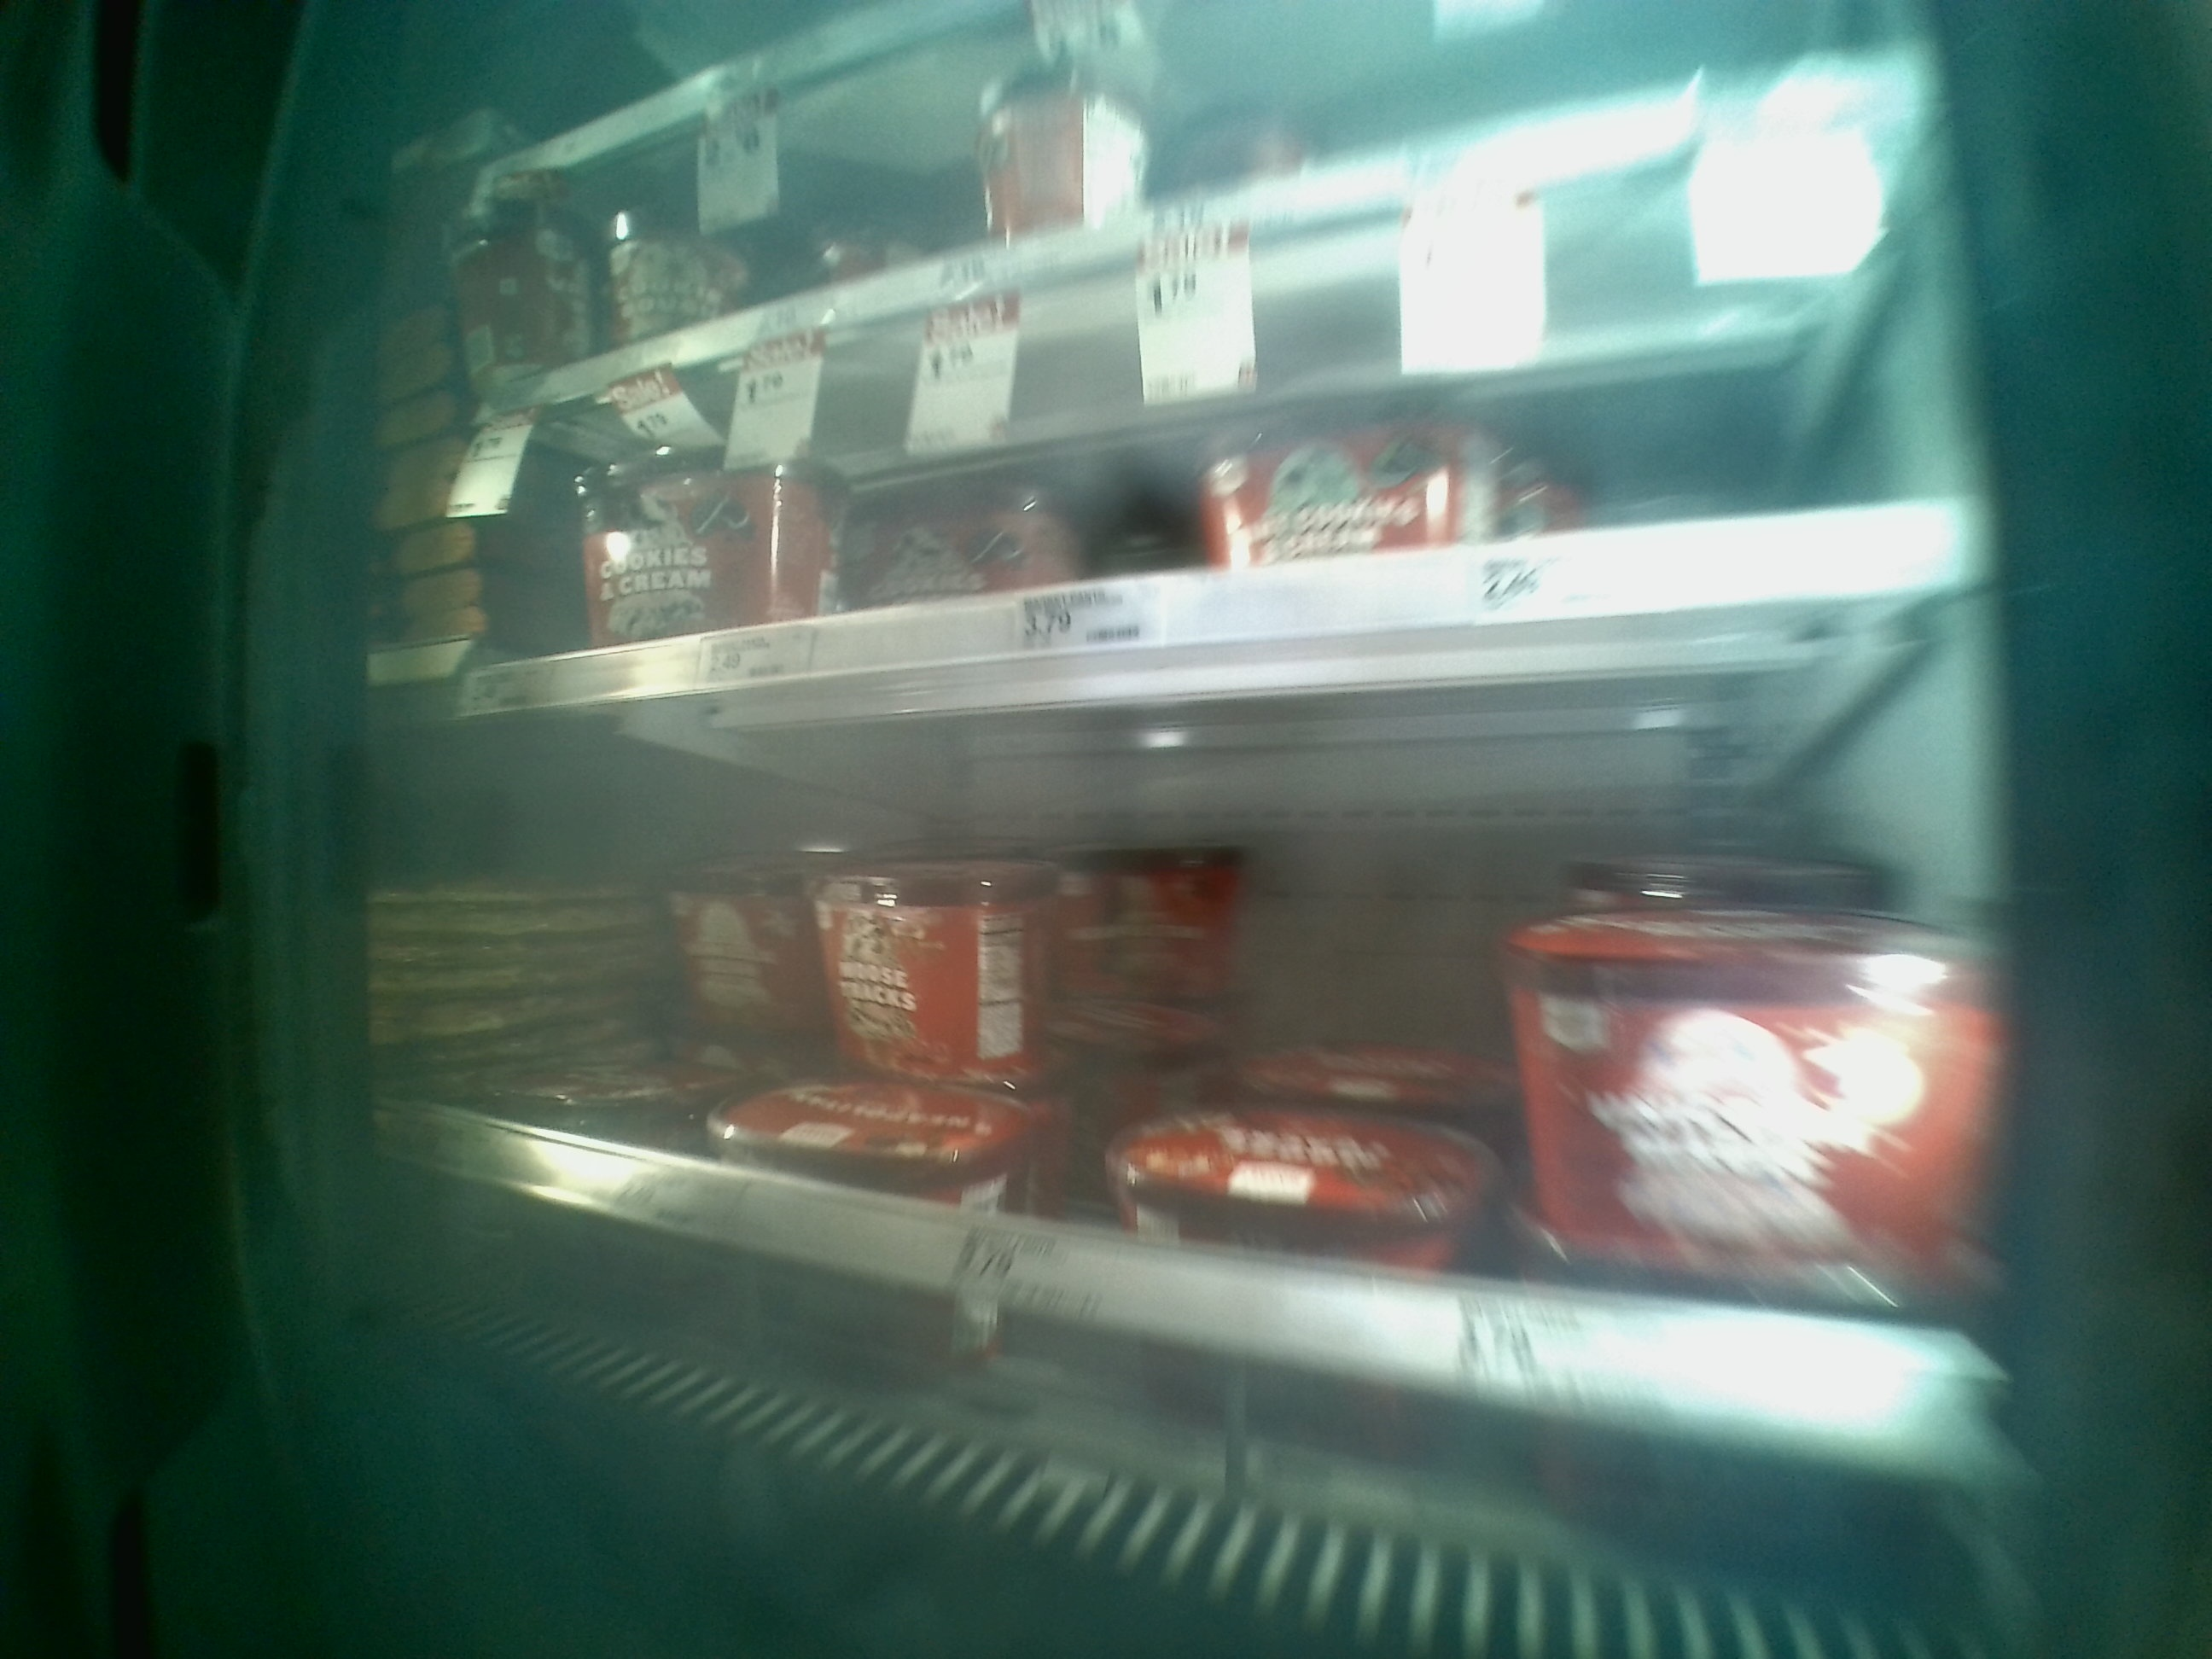shelf: (451, 608, 1998, 1549)
